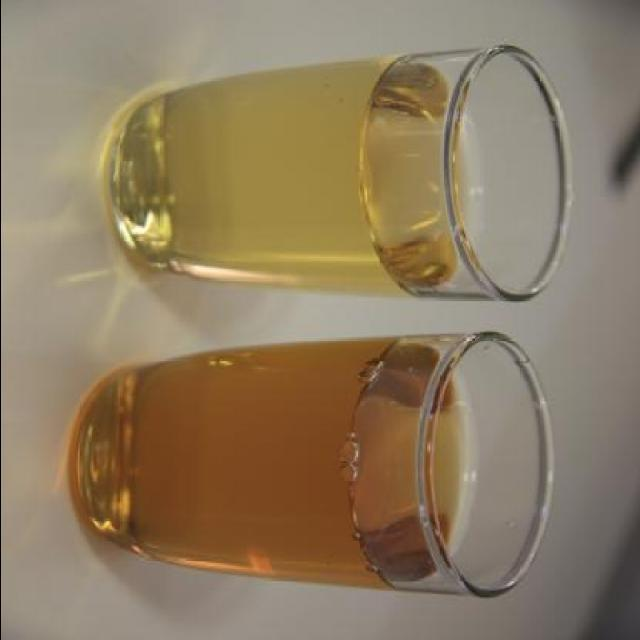Juice: (108, 54, 480, 298)
